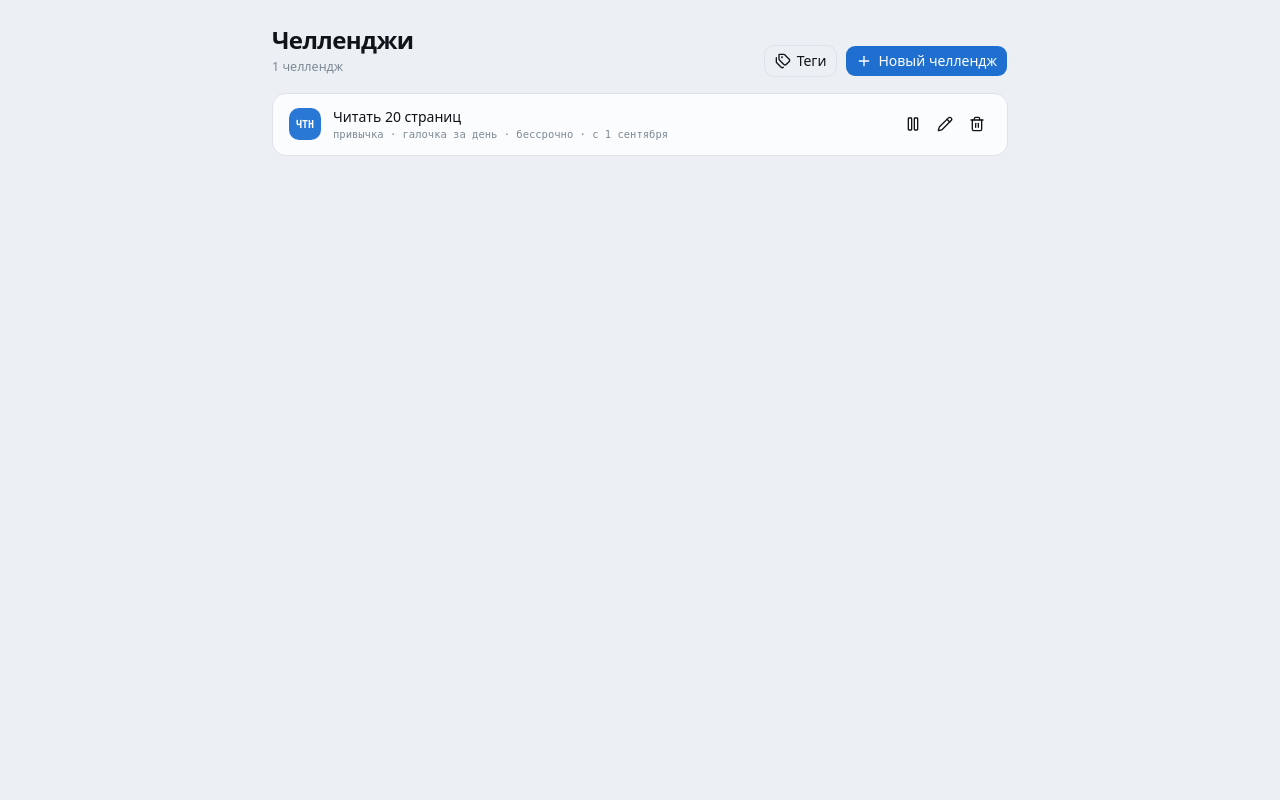
Test: экран челленджей — тип запирается первой отметкой (ревью 5а) › есть отметки — «Отказ» в форме выключен
The width and height of the screenshot is (1280, 800).
Click the button named "Изменить". click: (945, 124)
box: [931,110,959,138]
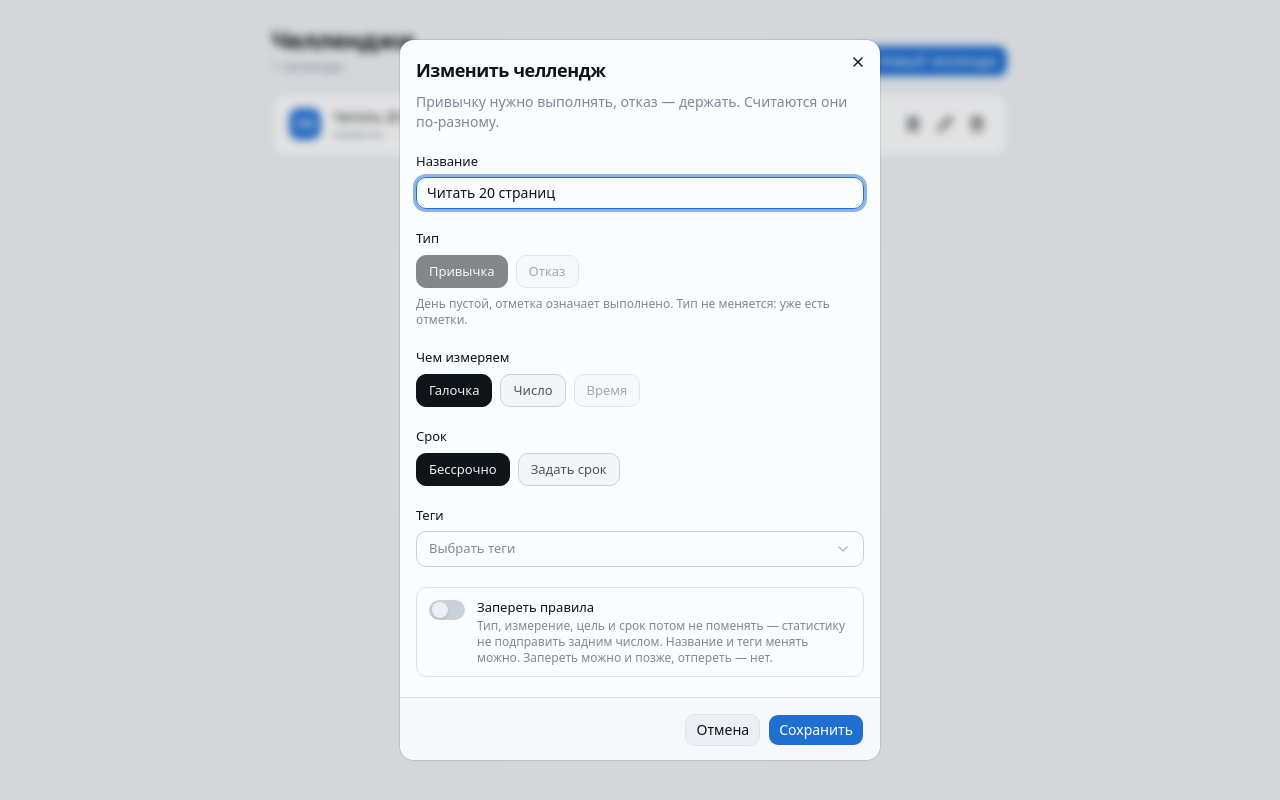
expect the button "Отказ" is disabled: met, box [516,255,578,288]
